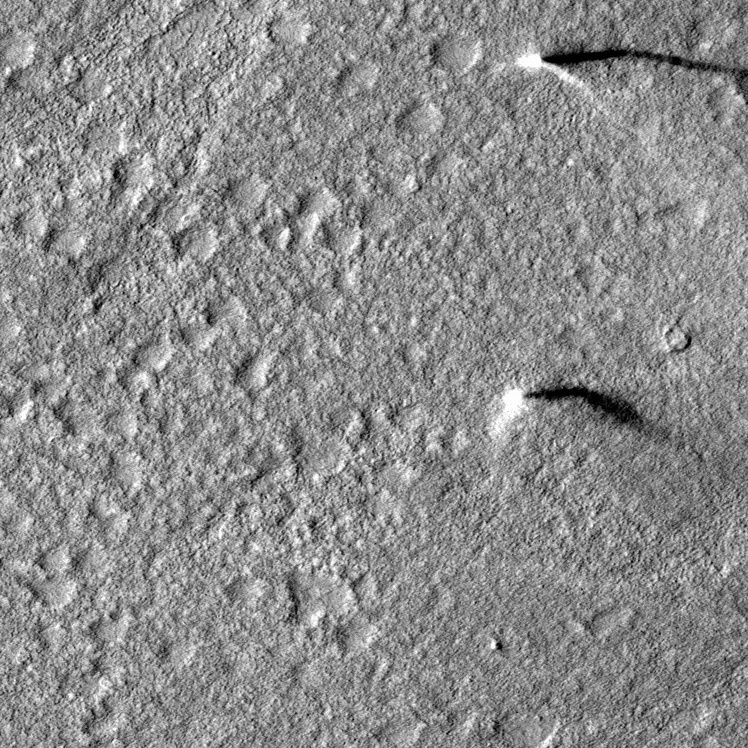dust_devil: (512, 43, 748, 114), (485, 381, 669, 451)
